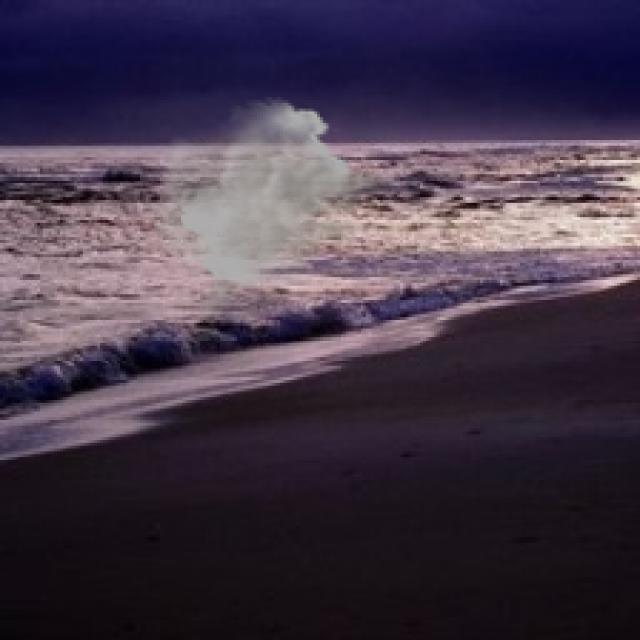smoke: (146, 97, 400, 320)
